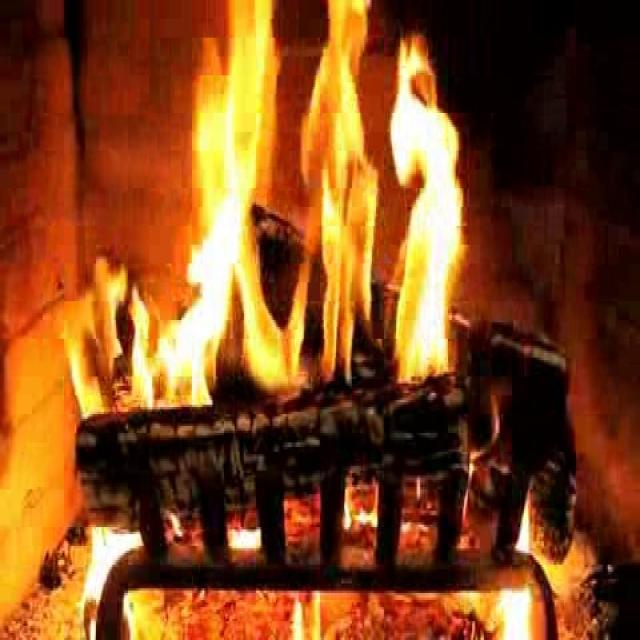fire: (58, 7, 473, 411)
